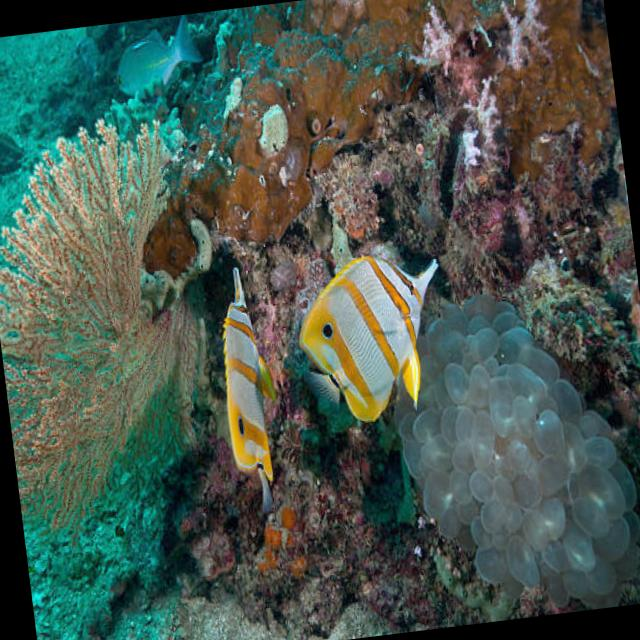ButterflyFish: (293, 248, 454, 430), (209, 268, 280, 507)
